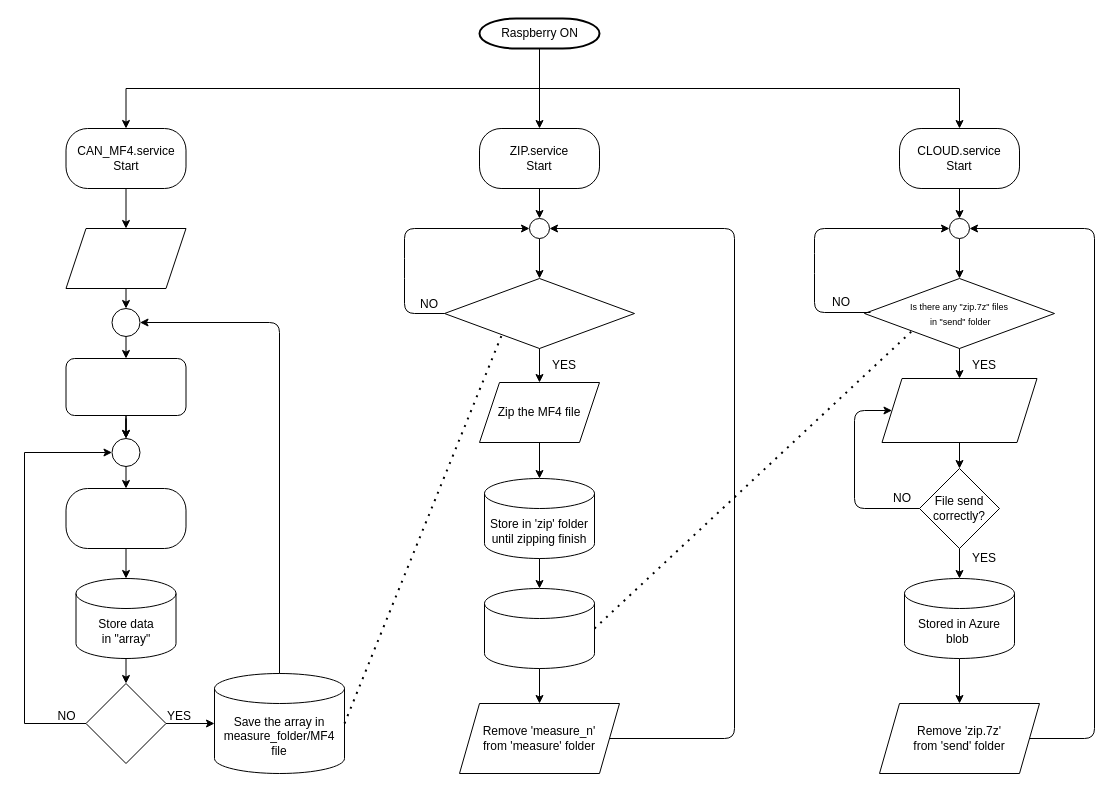
This 1120x791 diagram has some shape labels left out. The centre of each missing label's shape, as x and y in pixels:
Collect filtered CAN bus & GPS data: point 125,518
Create array: point 125,387
Is there any "measure_n" files in "measure" folder: point 539,313
Read configure file (filter,time,...): point 125,258
Replace file to 'send' folder: point 539,628
Send file to Azure blob storage: point 959,410
Timer >= 30s: point 125,723
